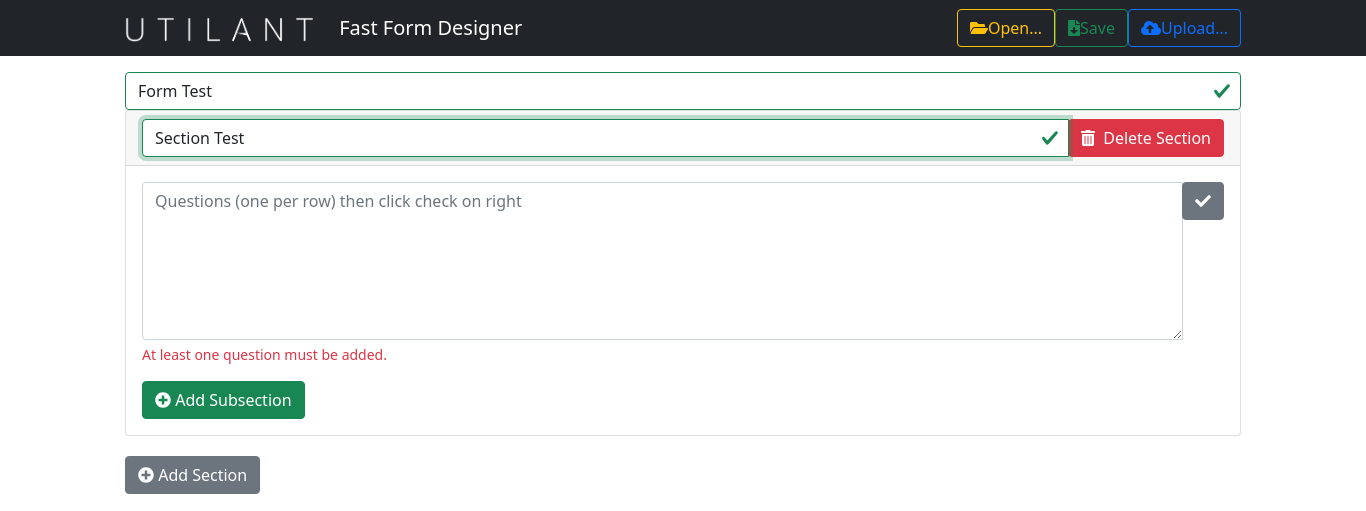
Test case: E2E testing of Fast Form Designer › Deletes section and error appears
Click the button with class "delete-section": x=1146, y=138 [1068,119,1224,157]
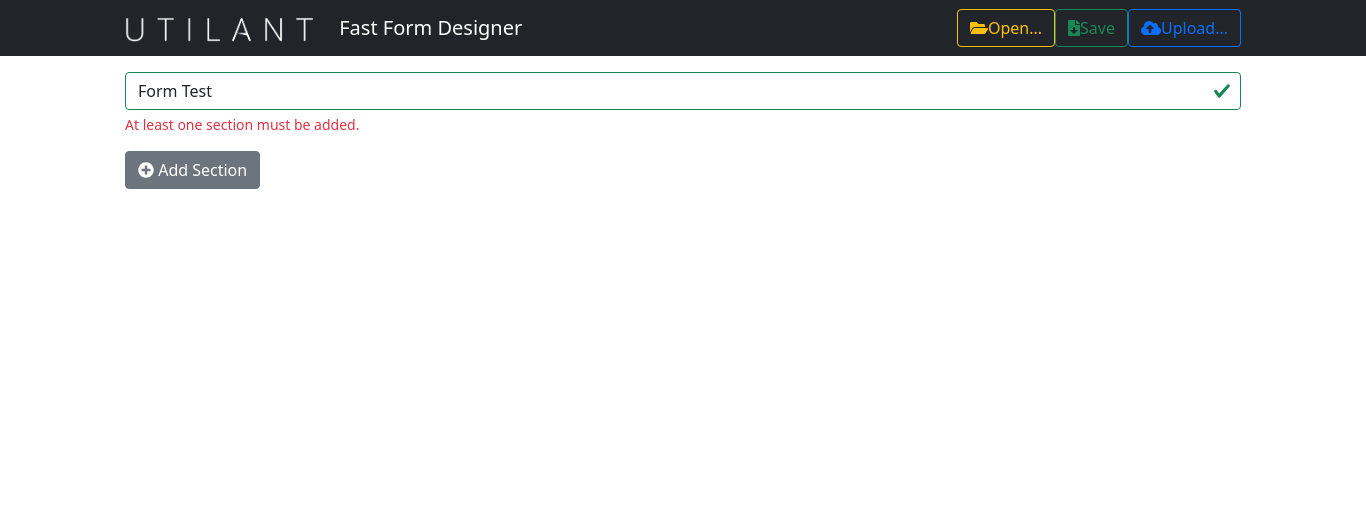
Result: the text "At least one section must be added." is shown at [125,115,359,134]
